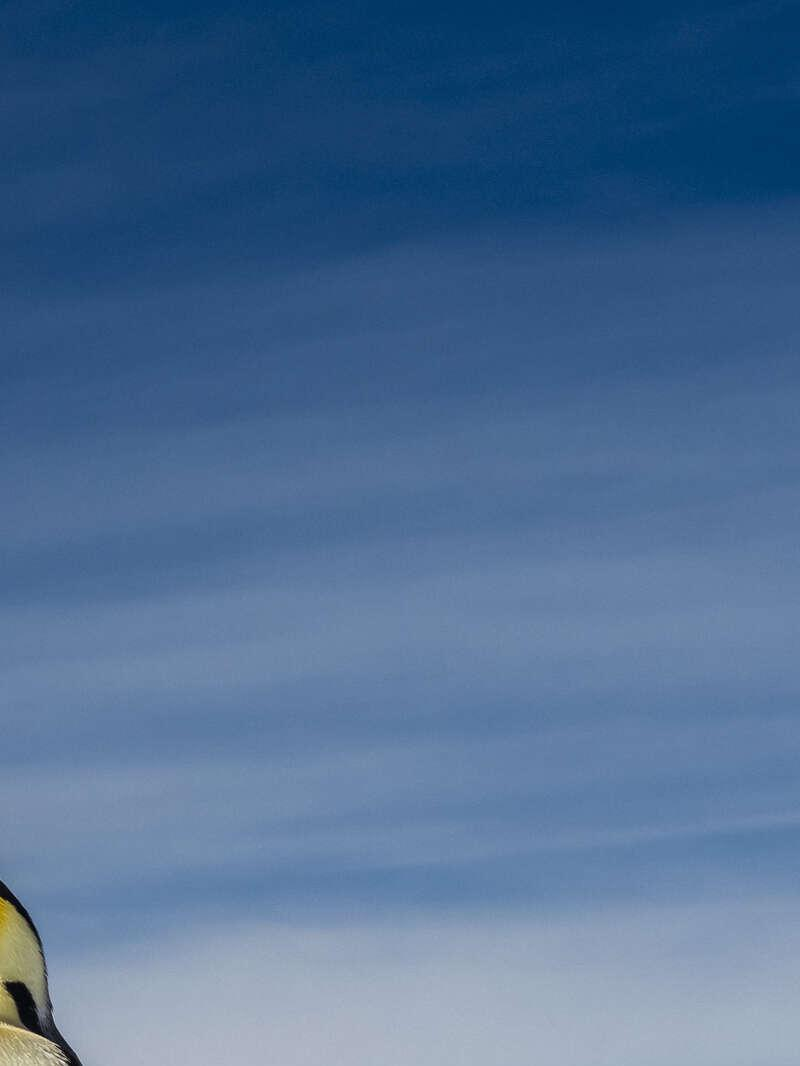Emperor Penguin: (0, 765, 354, 1066)
